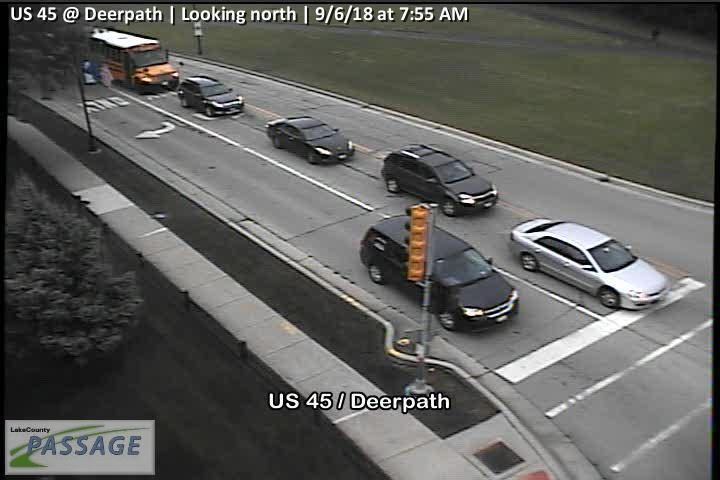Bus: (89, 26, 183, 94)
SUV: (358, 214, 521, 335), (381, 142, 500, 218), (264, 114, 357, 166), (177, 74, 246, 118)
Sedan: (509, 217, 668, 309)
